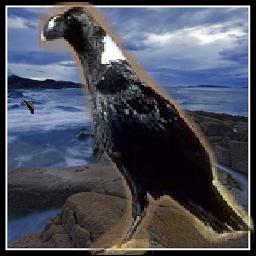Crow: (40, 3, 255, 256)
Swallow: (22, 98, 35, 114)
